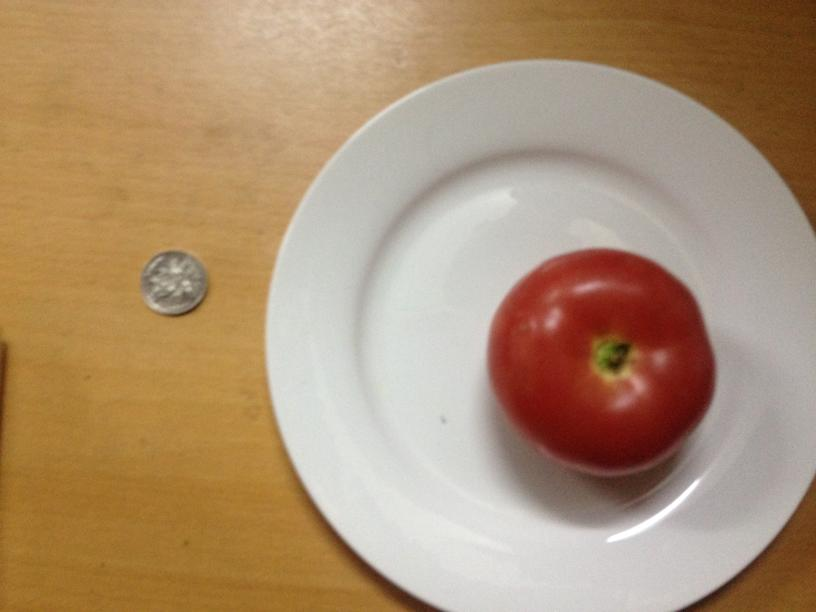coin: (134, 253, 209, 315)
tomato: (491, 250, 719, 479)
